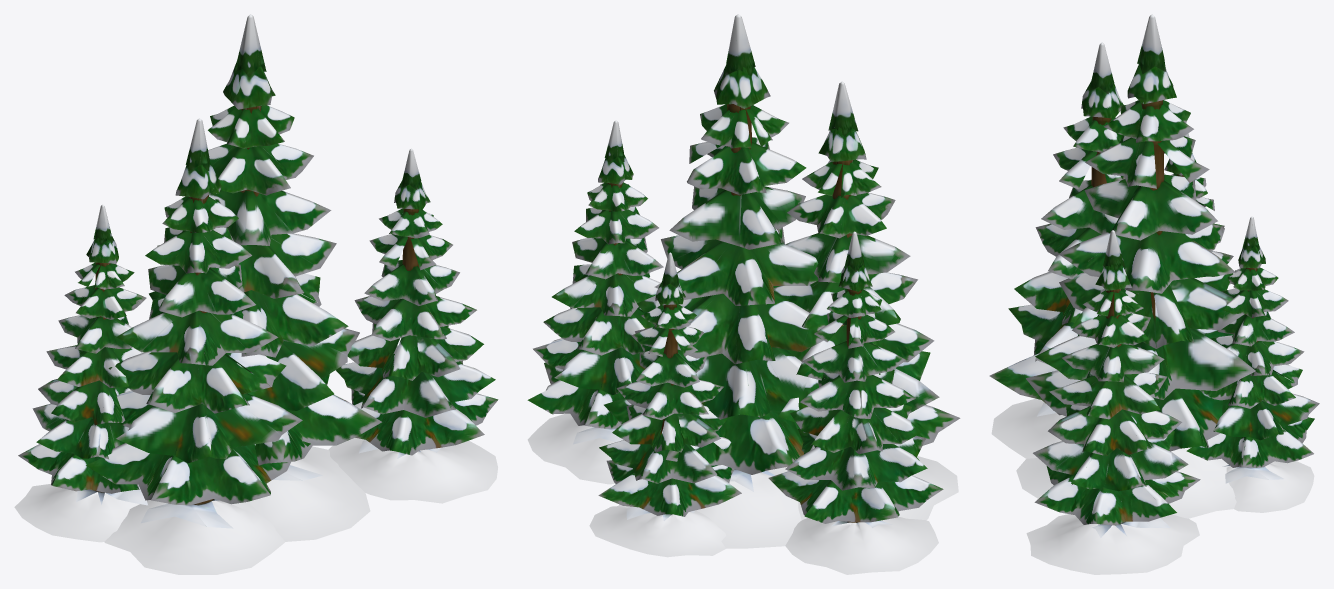
The model's file is SKI_PROP_PineCluster_A-Egq3_Cgd.glb.
The picture shows the model from 3 angles, left to right: view 1: azimuth 30°, elevation 25°; view 2: azimuth 150°, elevation 25°; view 3: azimuth 270°, elevation 25°; orthographic projection. The views are drawn at different scales.
Parts seen in each view (by area): view 1: SKI_PROP_PineCluster_A; view 2: SKI_PROP_PineCluster_A; view 3: SKI_PROP_PineCluster_A.
Boxes of the visible parts, x1,y1,x2,y2 form: SKI_PROP_PineCluster_A: (14, 14, 498, 574); SKI_PROP_PineCluster_A: (527, 14, 960, 574); SKI_PROP_PineCluster_A: (989, 14, 1319, 574).
Size of the model in its own units: 6.55 by 7 by 4.57.
Materials: 1 (1 with a texture image).
